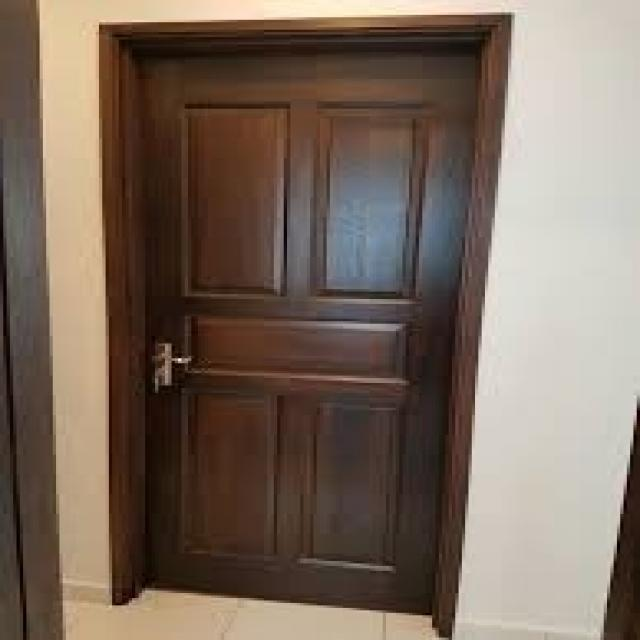Door: (106, 35, 452, 622)
